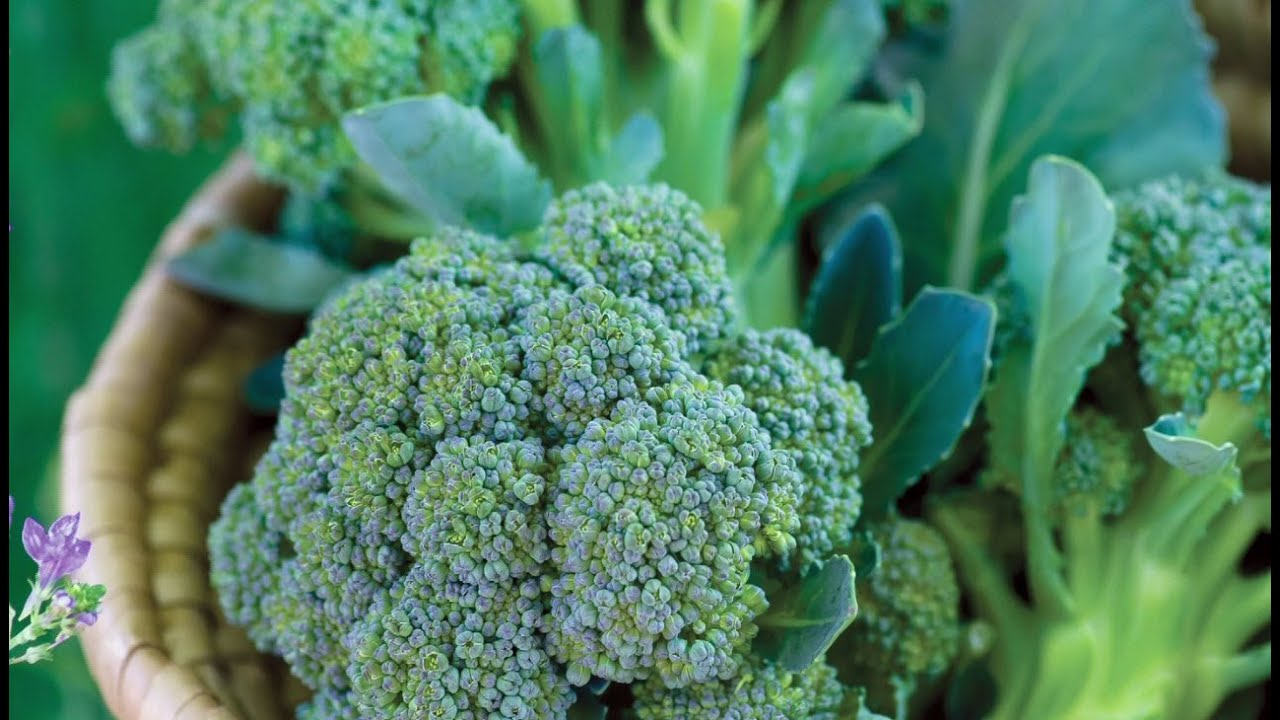tomato plant: (672, 43, 1015, 673), (115, 27, 412, 609)
